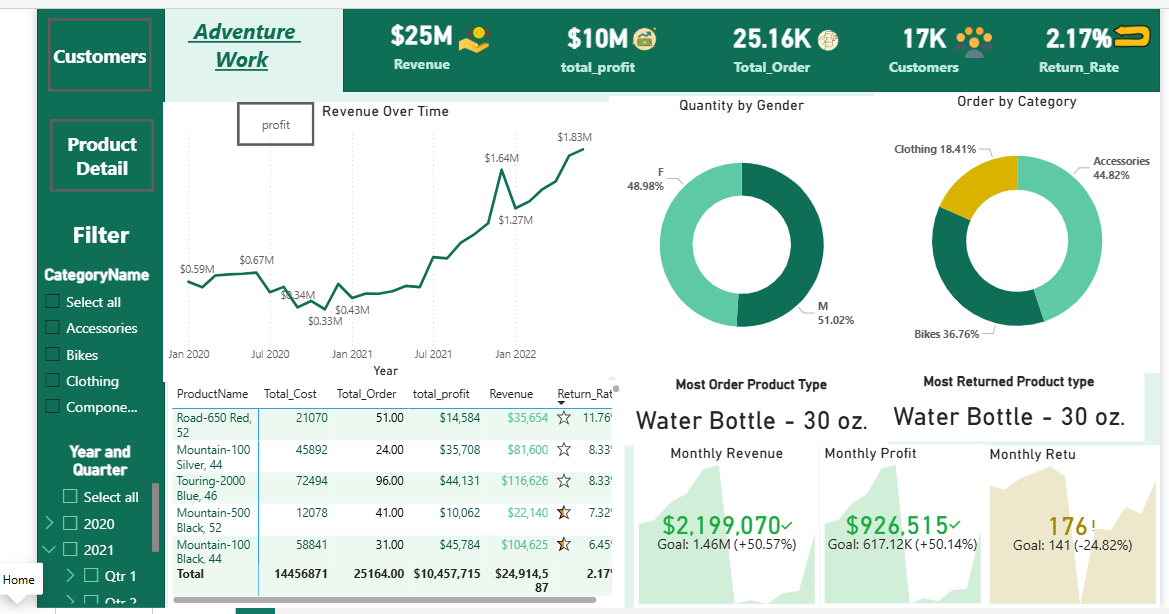

The dashboard page shown, as its layout file describes it:
{"tool":"powerbi","page":{"name":"Home","canvas":[1280,720],"ordinal":0},"visuals":[{"type":"shape","box":[348.9,0,931.1,132.2],"z":0},{"type":"shape","box":[0,12.5,145.8,707.5],"z":1000},{"type":"donutChart","title":"Order by Category","fields":{"Y":["Measure.Total_Order"],"Series":["Product Categories.CategoryName"]},"box":[953.8,132.5,326.2,320],"z":2000},{"type":"donutChart","title":"Quantity by Gender","fields":{"Category":["Customer.Gender"],"Y":["Measure.sold_Quantity"]},"box":[651.2,136.2,302.5,320],"z":3000},{"type":"kpi","title":"Monthly Profit","fields":{"TrendLine":["Calendar.Date.Variation.Date Hierarchy.Month"],"Indicator":["Measure.total_profit"],"Goal":["Measure.prv_month_pro"]},"box":[891.7,533.3,188.3,186.7],"z":4000},{"type":"kpi","title":"Monthly Retu","fields":{"TrendLine":["Calendar.Date.Variation.Date Hierarchy.Month"],"Indicator":["Measure.return_quantity"],"Goal":["Measure.prv_month_retunrate"]},"box":[1080,533.8,200,186.2],"z":5000},{"type":"kpi","title":"Monthly Revenue","fields":{"TrendLine":["Calendar.Date.Variation.Date Hierarchy.Month"],"Indicator":["Measure.Revenue"],"Goal":["Measure.prv_month_rev"]},"box":[680,532.9,211.4,187.1],"z":6000},{"type":"card","title":"Most Returned Product type","fields":{"Values":["Min(Product.ProductName)"]},"box":[953.8,452.5,307.5,77.5],"z":7000},{"type":"card","title":"Most Order Product Type","fields":{"Values":["Min(Product.ProductName)"]},"box":[658,456,311,79],"z":8000},{"type":"pivotTable","fields":{"Rows":["Product.ProductName"],"Values":["Measure.Total_Cost","Measure.Total_Order","Measure.total_profit","Measure.Revenue","Measure.Return_Rate"]},"box":[148.9,460,520,260],"z":9000},{"type":"lineChart","title":"Revenue Over Time","fields":{"Y":["Measure.Revenue"],"Category":["Calendar.Date.Variation.Date Hierarchy.Year","Calendar.Date.Variation.Date Hierarchy.Quarter","Calendar.Date.Variation.Date Hierarchy.Month","Calendar.Date.Variation.Date Hierarchy.Day"]},"box":[143.8,143.8,507.5,318.8],"z":10000},{"type":"actionButton","title":"profit","box":[228.3,143.3,88.3,50],"z":11000},{"type":"textbox","box":[160,41.4,147.1,91.4],"z":13000},{"type":"textbox","box":[23.8,270,97.5,58.8],"z":14000},{"type":"actionButton","box":[13,48,118,84],"z":15000},{"type":"actionButton","box":[14.3,162.9,118.6,82.9],"z":16000},{"type":"listSlicer","fields":{"Values":["Product Categories.CategoryName"]},"box":[3.5,329.1,136,186],"z":17000},{"type":"listSlicer","fields":{"Values":["Calendar.Date.Variation.Date Hierarchy.Year","Calendar.Date.Variation.Date Hierarchy.Quarter","Calendar.Date.Variation.Date Hierarchy.Month","Calendar.Date.Variation.Date Hierarchy.Day"]},"box":[0,531,144,189],"z":18000},{"type":"group","id":"g1","title":"Group 1","box":[370,37,147.8,79],"z":20000},{"type":"card","fields":{"Values":["Measure.Revenue"]},"box":[370,37,136,79],"z":20000,"group":"g1"},{"type":"card","fields":{"Values":["Measure.total_profit"]},"box":[552.9,37.1,172.9,82.9],"z":21000},{"type":"group","id":"g2","title":"Group 3","box":[924.4,37.8,175.6,83.3],"z":22000},{"type":"card","fields":{"Values":["Measure.Active_Customer"]},"box":[924.4,37.8,172.9,82.9],"z":22000,"group":"g2"},{"type":"group","id":"g3","title":"Group 4","box":[751.1,37.8,172.9,82.9],"z":23000},{"type":"card","fields":{"Values":["Measure.Total_Order"]},"box":[751.1,37.8,172.9,82.9],"z":23000,"group":"g3"},{"type":"group","id":"g4","title":"Group 5","box":[1100,36.7,173.3,84.4],"z":24000},{"type":"card","fields":{"Values":["Measure.Return_Rate"]},"box":[1100,38,173.3,83.3],"z":24000,"group":"g4"},{"type":"image","box":[476.7,52.6,41.1,38.9],"z":30501,"group":"g1"},{"type":"image","box":[668.9,54.4,46.7,34.4],"z":30503},{"type":"image","box":[1037.3,52.6,62.2,46.7],"z":30505,"group":"g2"},{"type":"image","box":[885.4,43.6,32.2,60],"z":30507,"group":"g3"},{"type":"image","box":[1222.4,36.7,47.5,66.2],"z":30509,"group":"g4"}]}

Visuals, with their boxes on the page's 1280x720 design canvas (x1, y1, x2, y2). These are canvas units, not pixel positions in the 1169x614 screenshot, which may show the page scaled, cropped or inside an application window:
shape: left=349, top=0, right=1280, bottom=132
shape: left=0, top=12, right=146, bottom=720
"Order by Category" donutChart: left=954, top=132, right=1280, bottom=452
"Quantity by Gender" donutChart: left=651, top=136, right=954, bottom=456
"Monthly Profit" kpi: left=892, top=533, right=1080, bottom=720
"Monthly Retu" kpi: left=1080, top=534, right=1280, bottom=720
"Monthly Revenue" kpi: left=680, top=533, right=891, bottom=720
"Most Returned Product type" card: left=954, top=452, right=1261, bottom=530
"Most Order Product Type" card: left=658, top=456, right=969, bottom=535
pivotTable - Product.ProductName x Measure.Total_Cost: left=149, top=460, right=669, bottom=720
"Revenue Over Time" lineChart: left=144, top=144, right=651, bottom=463
"profit" actionButton: left=228, top=143, right=317, bottom=193
textbox: left=160, top=41, right=307, bottom=133
textbox: left=24, top=270, right=121, bottom=329
actionButton: left=13, top=48, right=131, bottom=132
actionButton: left=14, top=163, right=133, bottom=246
listSlicer - Product Categories.CategoryName: left=4, top=329, right=140, bottom=515
listSlicer - Calendar.Date.Variation.Date Hierarchy.Year x Calendar.Date.Variation.Date Hierarchy.Quarter: left=0, top=531, right=144, bottom=720
"Group 1" group: left=370, top=37, right=518, bottom=116
card - Measure.Revenue: left=370, top=37, right=506, bottom=116
card - Measure.total_profit: left=553, top=37, right=726, bottom=120
"Group 3" group: left=924, top=38, right=1100, bottom=121
card - Measure.Active_Customer: left=924, top=38, right=1097, bottom=121
"Group 4" group: left=751, top=38, right=924, bottom=121
card - Measure.Total_Order: left=751, top=38, right=924, bottom=121
"Group 5" group: left=1100, top=37, right=1273, bottom=121
card - Measure.Return_Rate: left=1100, top=38, right=1273, bottom=121
image: left=477, top=53, right=518, bottom=92
image: left=669, top=54, right=716, bottom=89
image: left=1037, top=53, right=1100, bottom=99
image: left=885, top=44, right=918, bottom=104
image: left=1222, top=37, right=1270, bottom=103
